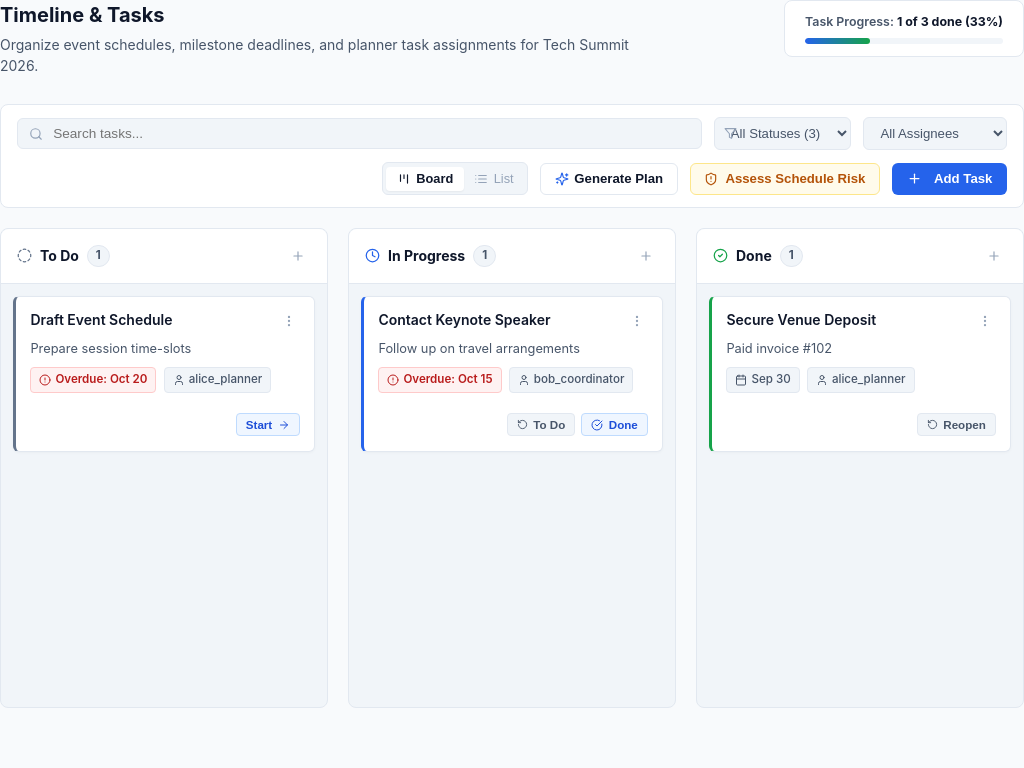
Test case: EventTimelineTab & Task Management (Epic 3.3) › clicking toolbar 'Generate Plan' button opens the GeneratePlanModal
This screenshot has width=1024, height=768.
Click the button with test id "generate-plan-btn".
click(609, 179)  # box [540,163,678,195]
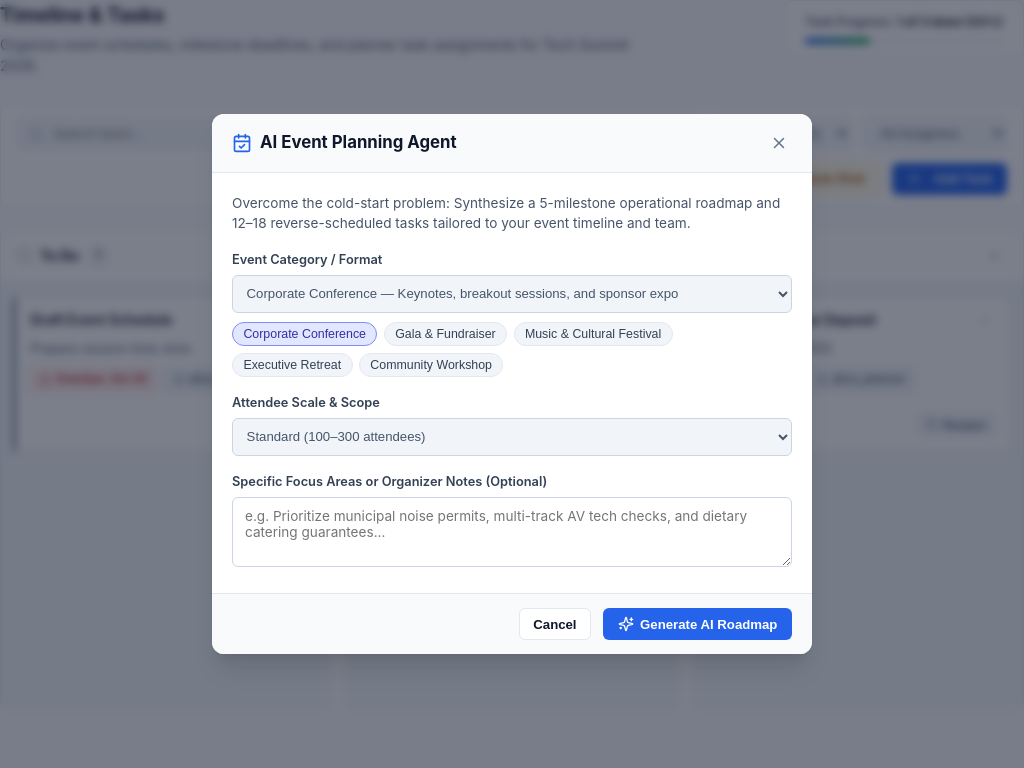
Expected: the dialog is shown
Expected: the text "AI Event Planning Agent" is shown, [260,130,457,156]
